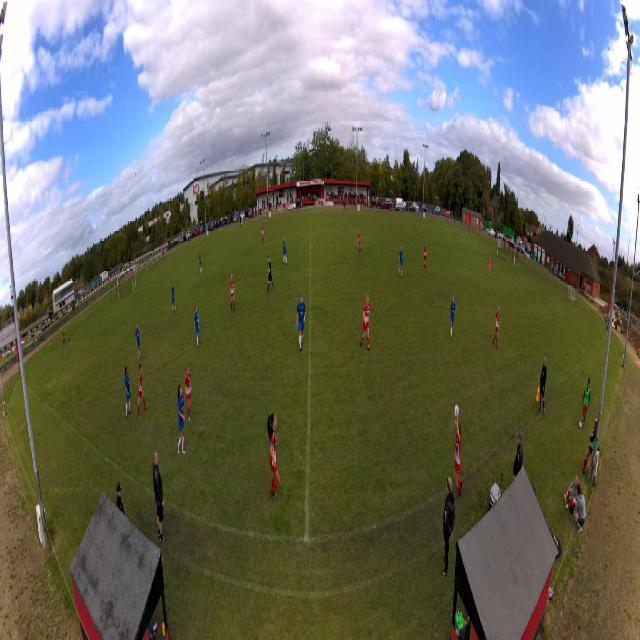ball: (453, 404, 459, 418)
player: (266, 412, 281, 503), (452, 412, 464, 499), (176, 384, 186, 456), (137, 362, 149, 420), (360, 294, 371, 353), (296, 292, 306, 352), (124, 365, 133, 420), (184, 365, 192, 423), (449, 294, 458, 343), (492, 305, 500, 353), (266, 255, 275, 294), (194, 306, 200, 352), (135, 322, 141, 363), (230, 272, 236, 312), (398, 245, 404, 279), (171, 281, 177, 315), (423, 240, 428, 274), (356, 228, 362, 256), (283, 236, 288, 266), (198, 251, 203, 275), (487, 255, 491, 279), (131, 279, 135, 299), (261, 222, 265, 242)
